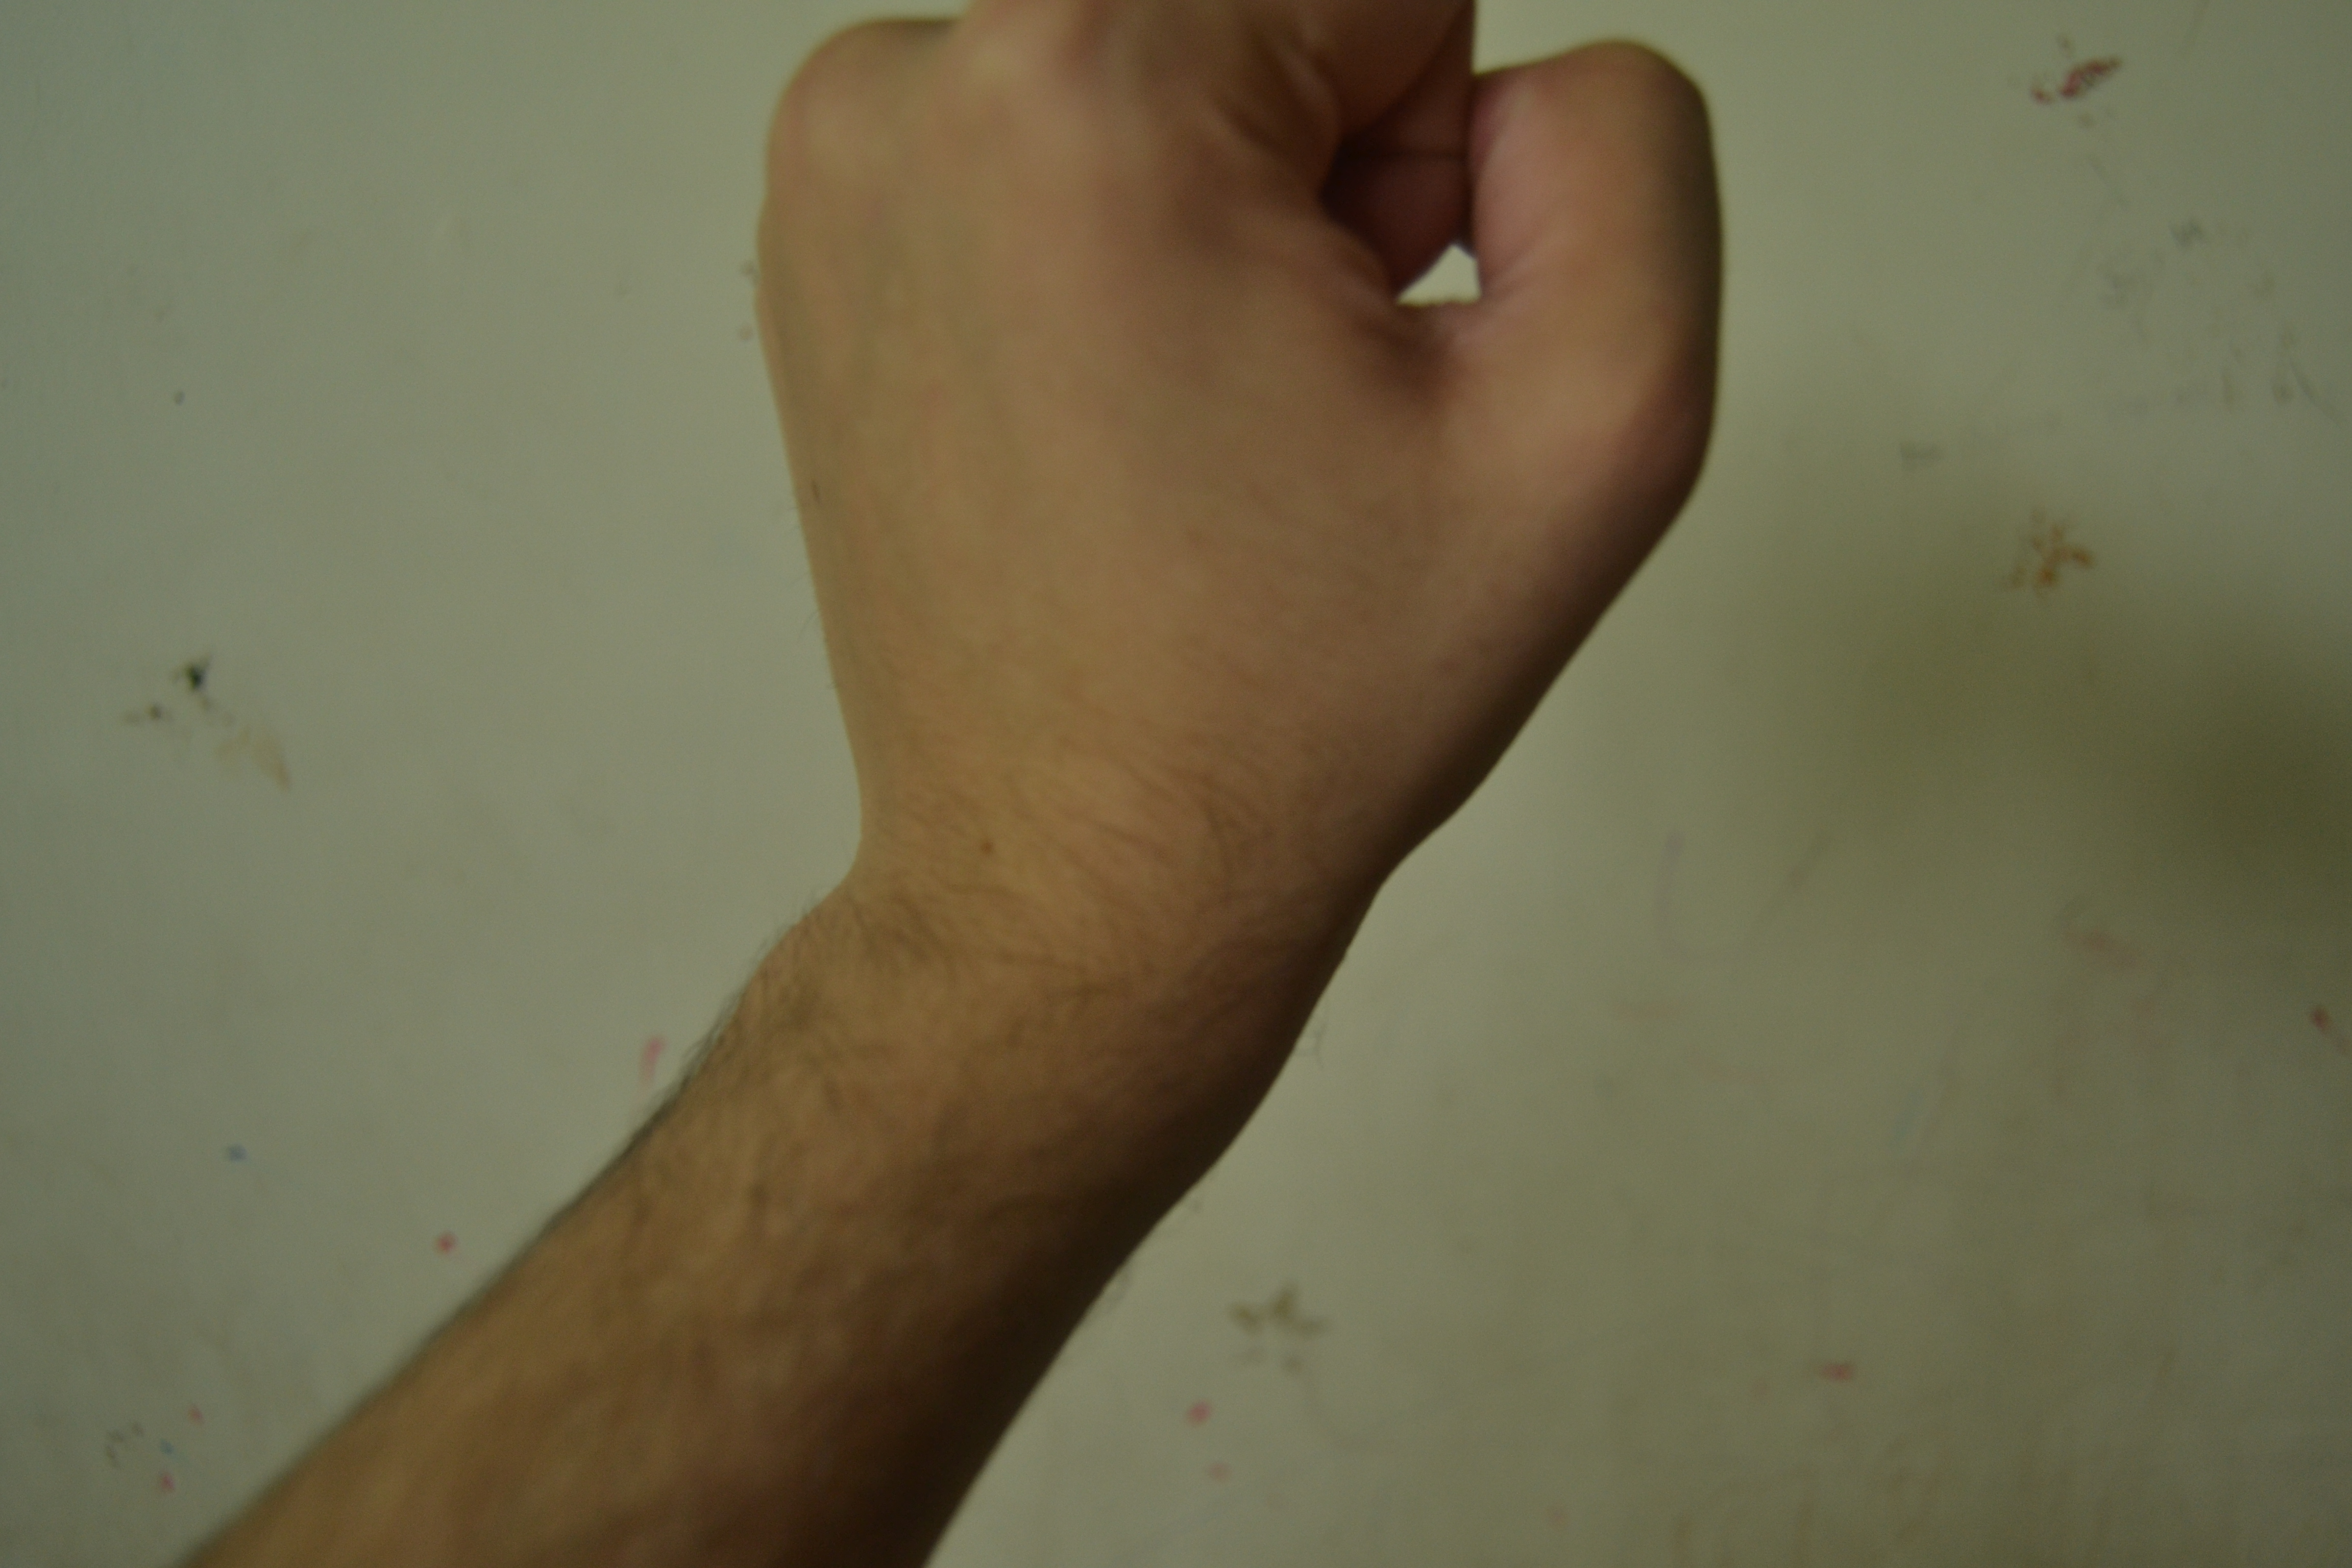click: (672, 12, 1871, 1211)
